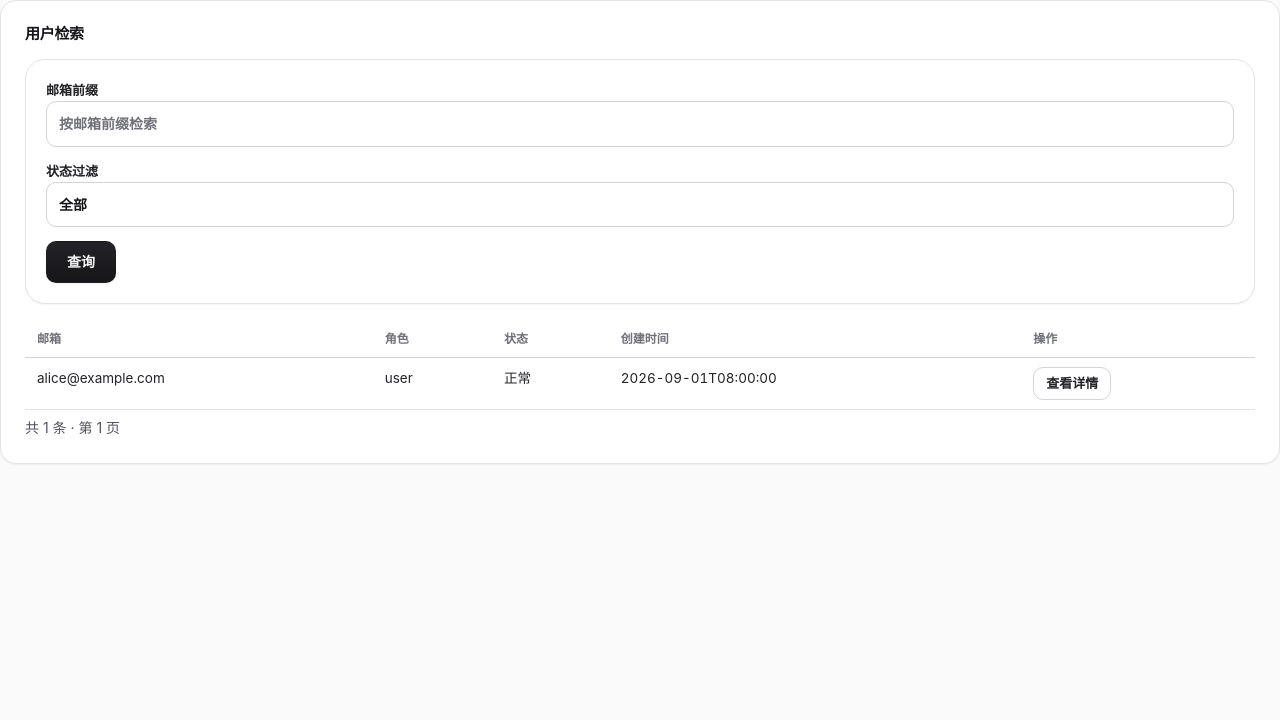
Scenario: 详情抽屉四区块 › 打开抽屉拉取详情：概览/配额/权限/任务计数渲染
This screenshot has width=1280, height=720.
Click the button "查看详情": [1072, 384] box [1033,368,1111,400]
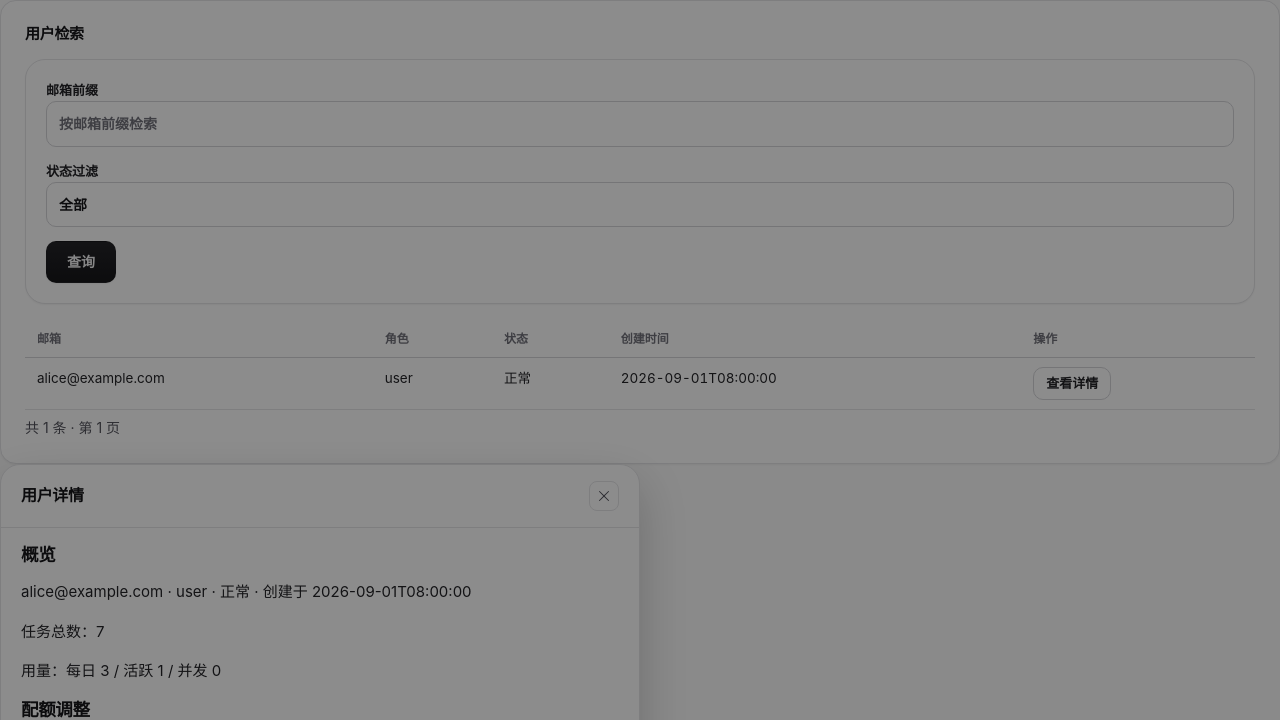
expect the text "alice@example.com · user · 正常 · 创建于 2026-09-01T08:00:00" is shown: met, box [21,582,472,601]
expect the text "任务总数：7" is shown: met, box [21,622,104,640]
